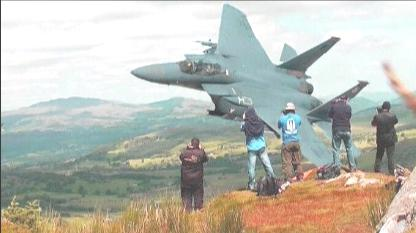F117: (127, 1, 369, 165)
